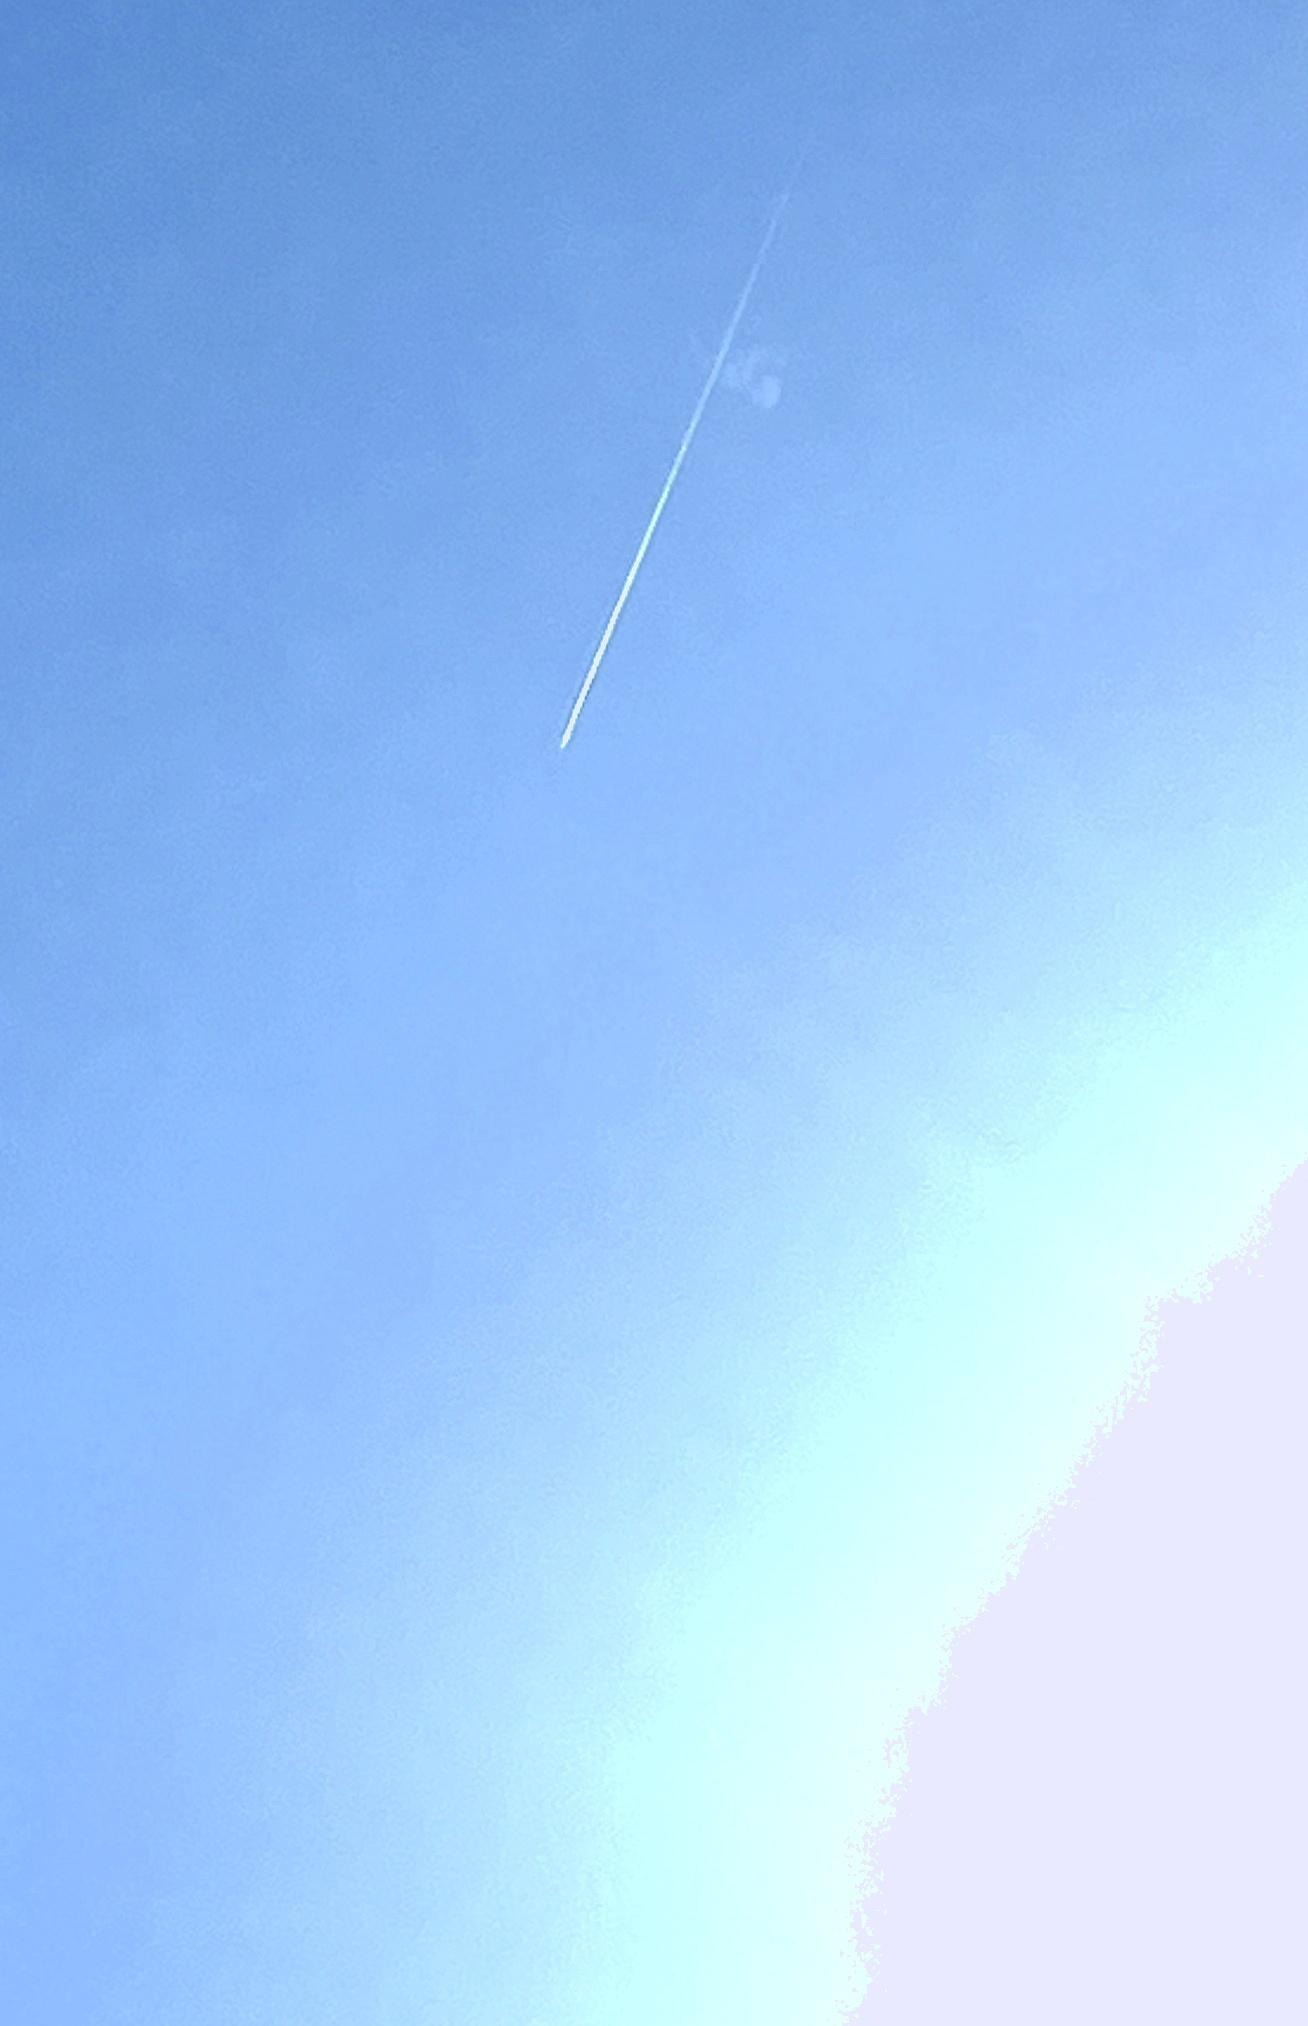Plane: (521, 196, 815, 806)
